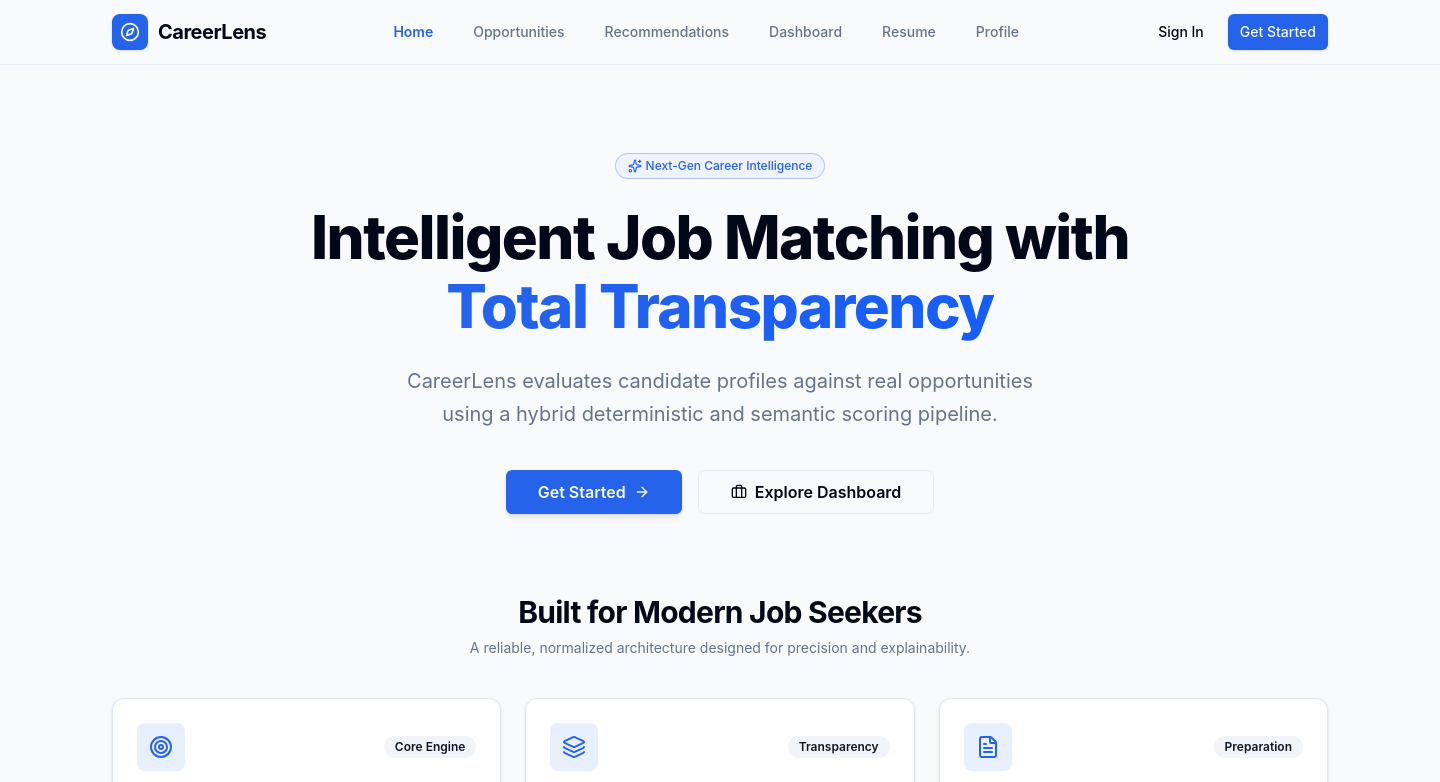
Test: CareerLens Application Shell & Routing › navigates to login page via navigation link
Click the button "Sign In".
click(1181, 32)  # box [1146, 14, 1216, 50]
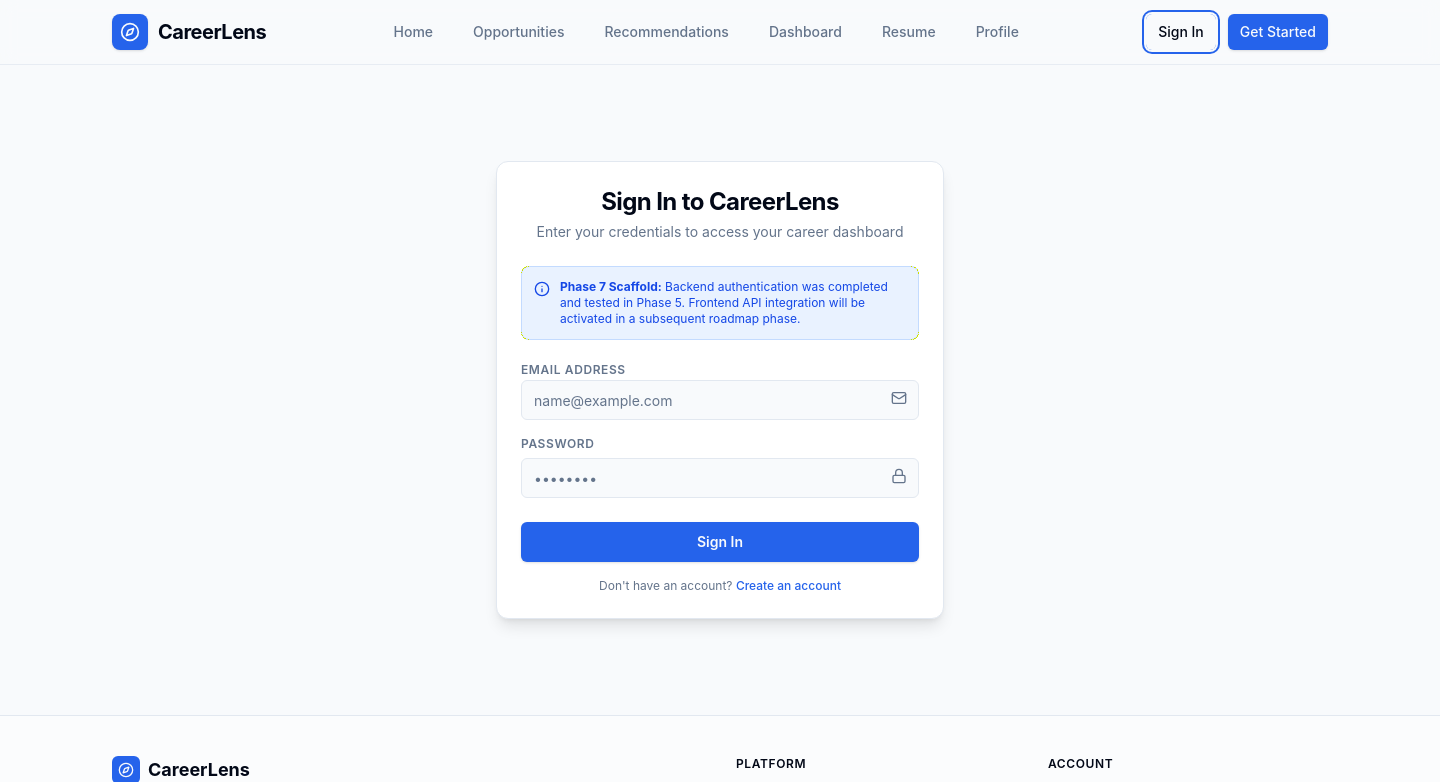
Expected: the heading "Sign In to CareerLens" is shown, [601, 187, 839, 216]
Expected: the field labelled "Email Address" is shown, [521, 380, 919, 420]
Expected: the password field labelled "Password" is shown, [521, 458, 919, 498]
